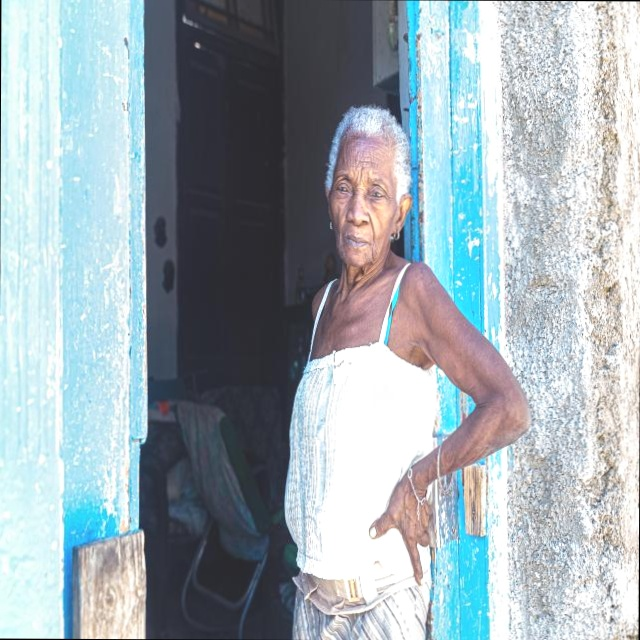Crop_Top: (281, 259, 415, 579)
Sleeveless: (304, 258, 474, 421)
